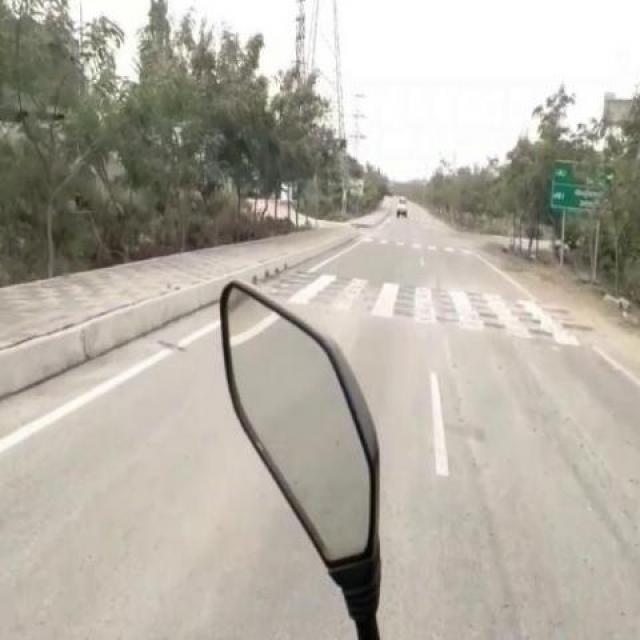Speed Bump: (333, 268, 594, 342)
